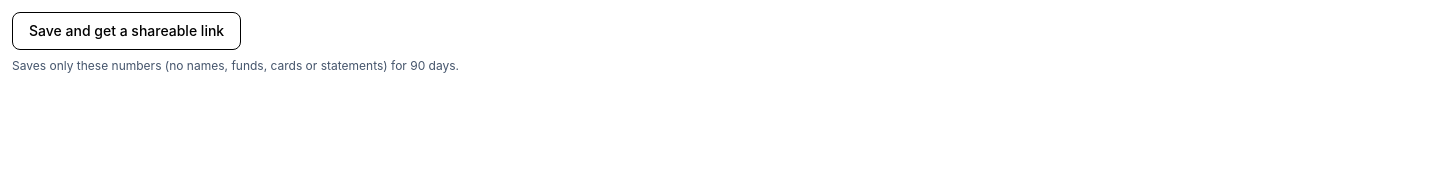
it: SaveScore › shows the share link after saving
Click the button "Save and get a shareable link": [127, 31] box top-left (12, 12), bottom-right (241, 50)
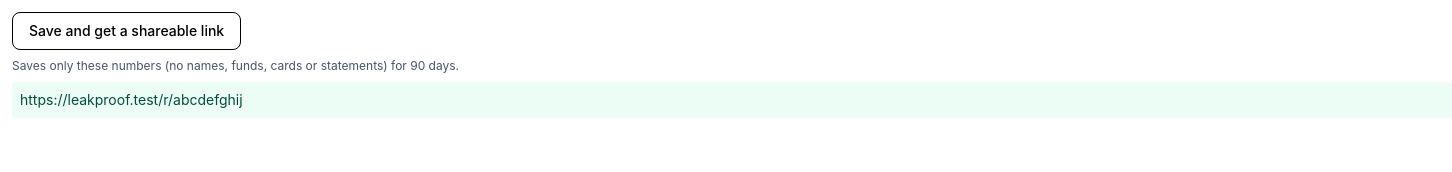
Now the text with test id "share-link" reads "https://leakproof.test/r/abcdefghij", box top-left (20, 91), bottom-right (243, 108)
